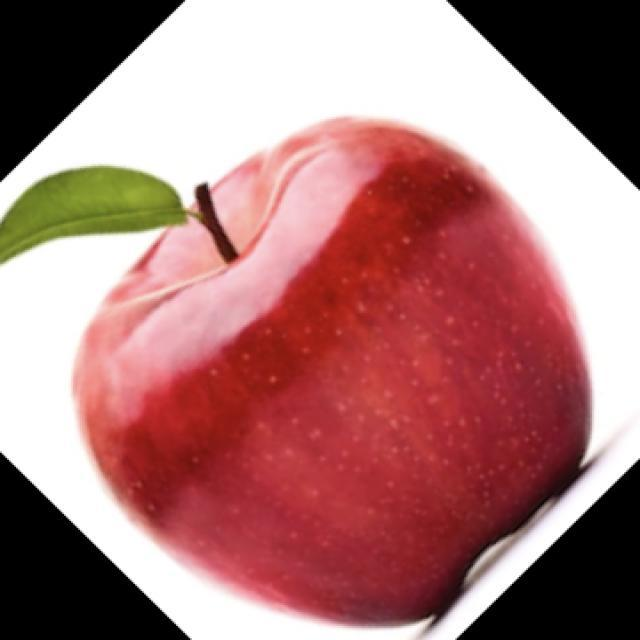Fresh Apple: (95, 123, 578, 640)
